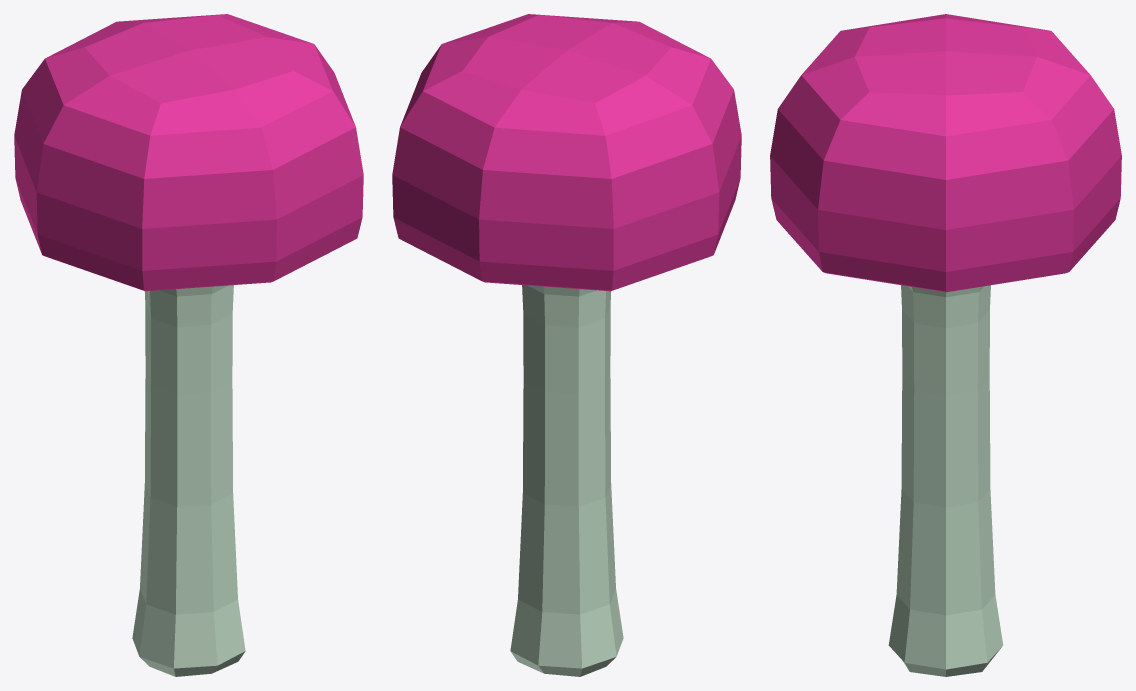
Rendered from TreeoModel.fbx.
The picture shows the model from 3 angles, left to right: view 1: azimuth 30°, elevation 25°; view 2: azimuth 150°, elevation 25°; view 3: azimuth 270°, elevation 25°; orthographic projection.
Visible parts, largest first — view 1: Cube; view 2: Cube; view 3: Cube.
Part boxes in pixels (box(x1,y1,x2,y2)): Cube: box(14, 14, 363, 676); Cube: box(392, 14, 741, 676); Cube: box(770, 14, 1121, 676).
Size of the model in its own units: 210 by 400 by 210.
